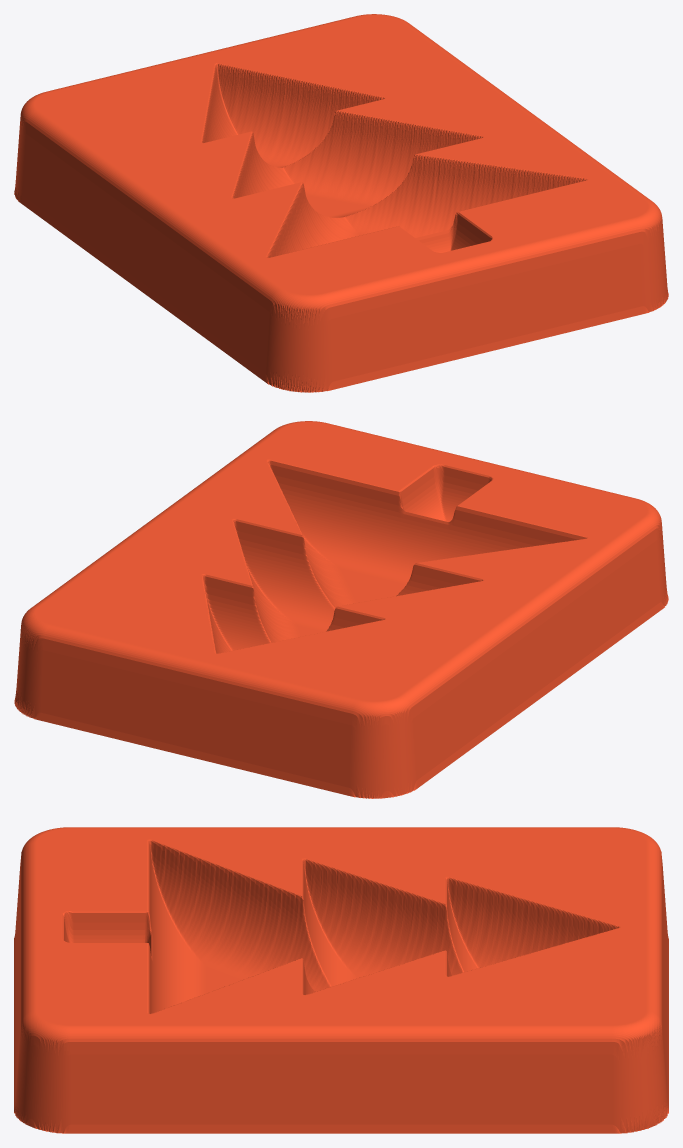
File: mold.glb
3 views of the same model, one above another, from view 1: azimuth 30°, elevation 25°; view 2: azimuth 150°, elevation 25°; view 3: azimuth 270°, elevation 25° (orthographic). The views are drawn at different scales.
Parts seen in each view (by area): view 1: geometry_0; view 2: geometry_0; view 3: geometry_0.
Part boxes in pixels (left/top/right/bottom): geometry_0: left=14, top=14, right=668, bottom=392; geometry_0: left=14, top=421, right=668, bottom=798; geometry_0: left=14, top=827, right=668, bottom=1133.
Bounding box in the file's own units: 0.0818 × 0.0175 × 0.105.
